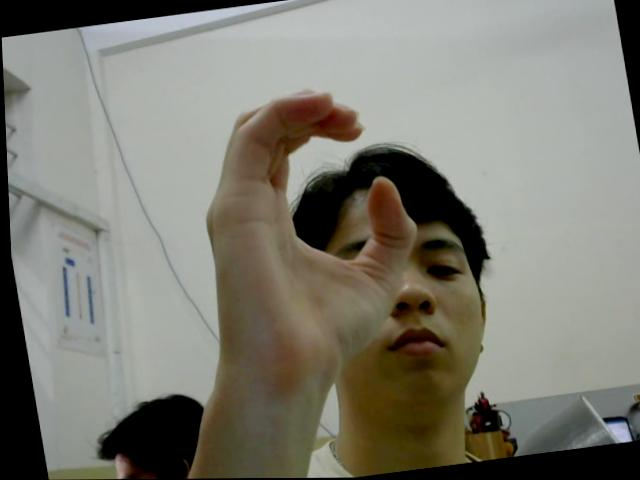C: (180, 77, 437, 396)
